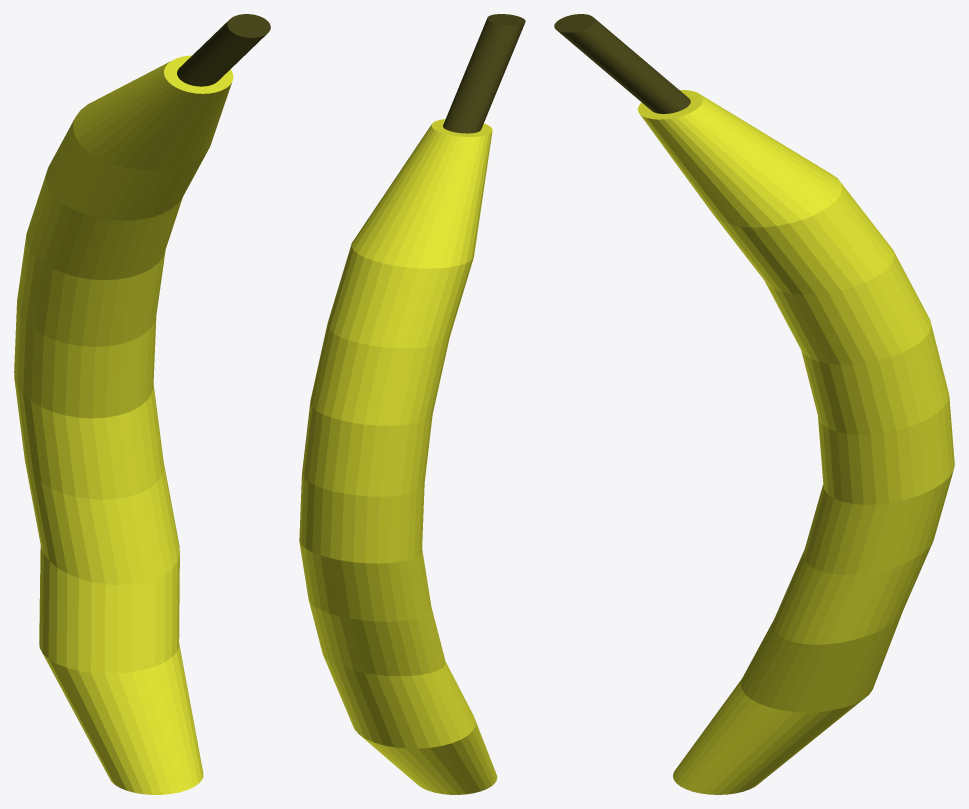
File: banaan.fbx
The picture shows the model from 3 angles, left to right: view 1: azimuth 30°, elevation 25°; view 2: azimuth 150°, elevation 25°; view 3: azimuth 270°, elevation 25°; orthographic projection. The views are drawn at different scales.
Visible parts, largest first — view 1: banaan; view 2: banaan; view 3: banaan.
Part boxes in pixels (x1,y1,x2,y2): banaan: (14,14,270,794); banaan: (299,14,525,794); banaan: (554,14,954,794).
Size of the model in its own units: 4.62 by 25.5 by 12.12.
